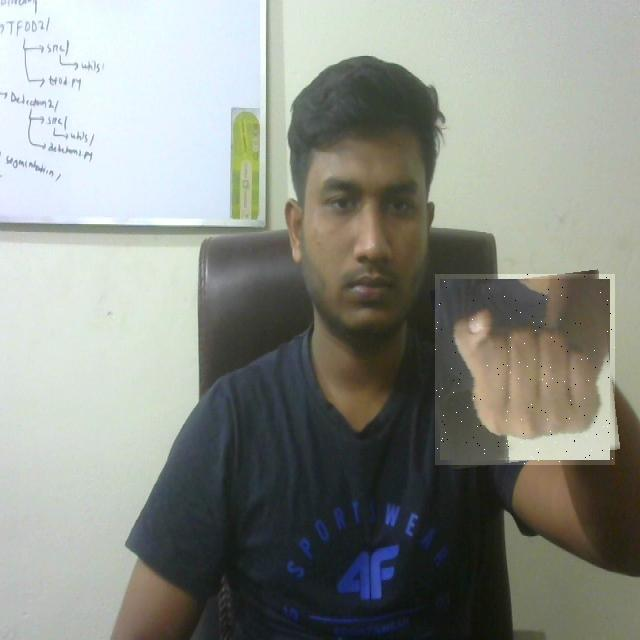Yes: (435, 274, 615, 465)
